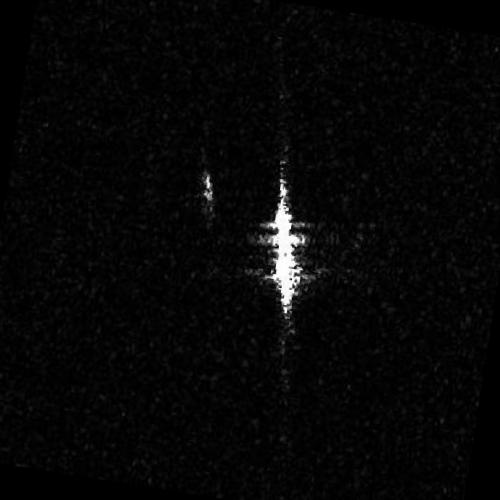ship: (271, 178, 300, 321)
